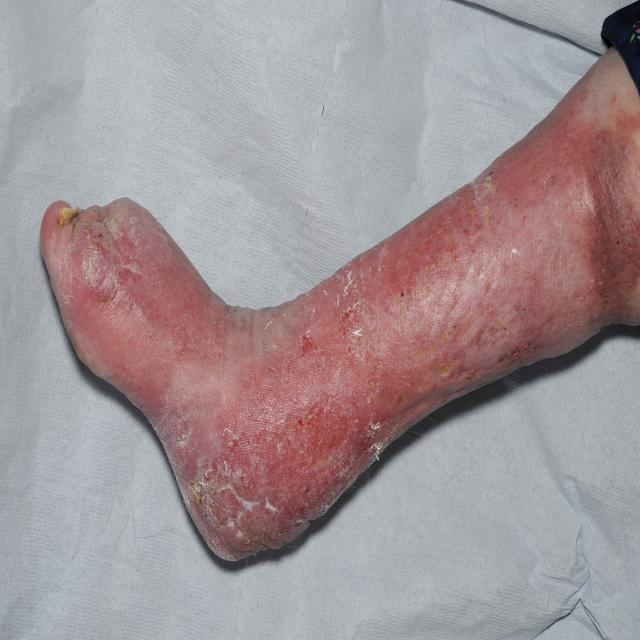wound: (168, 384, 373, 567)
